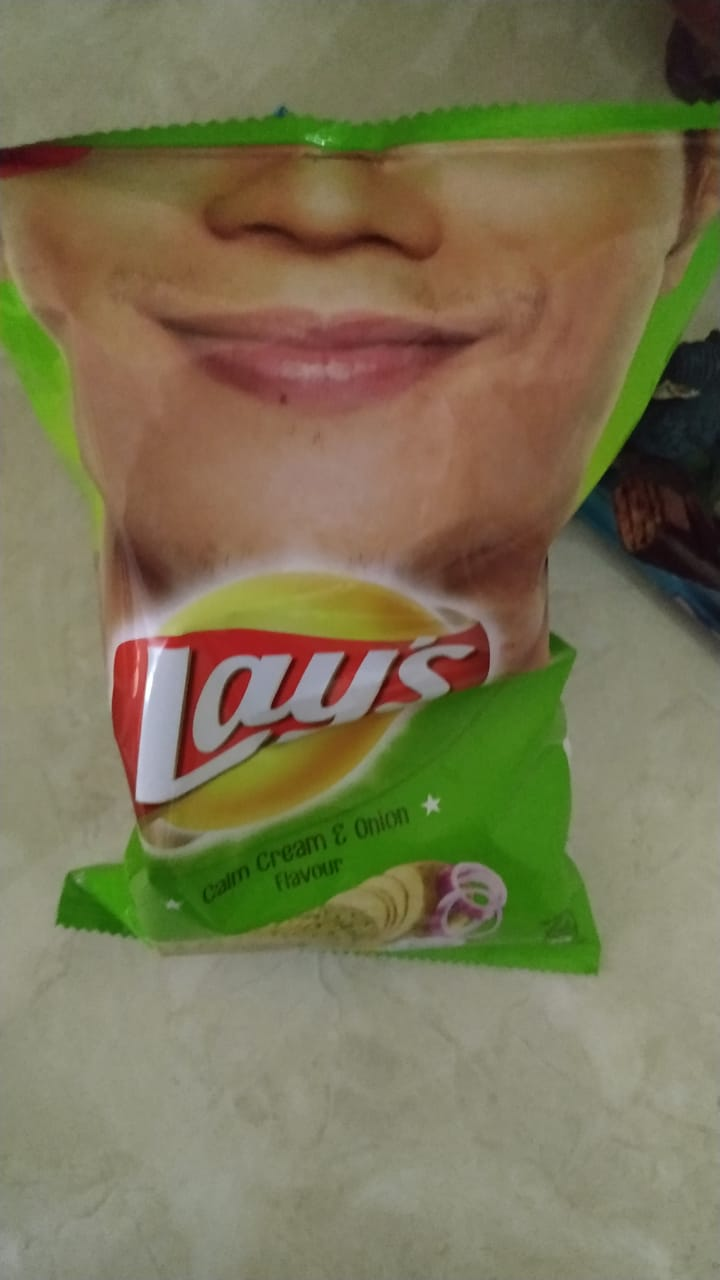lays chips: (1, 58, 662, 1017)
